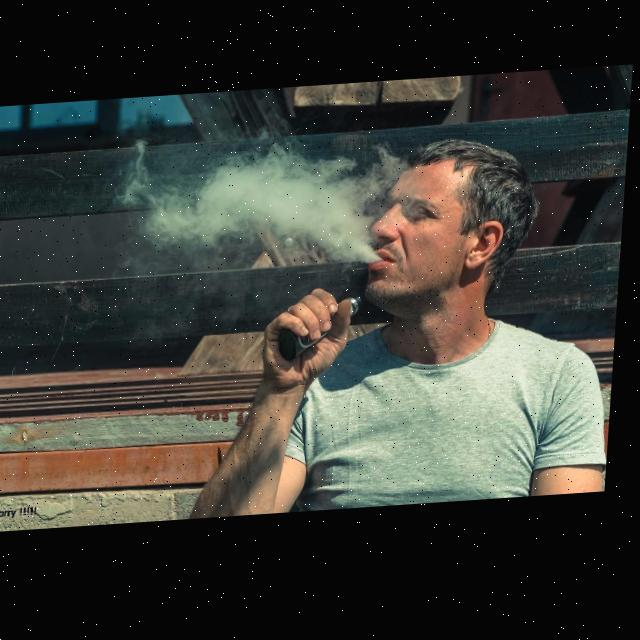vape: (281, 298, 373, 364)
